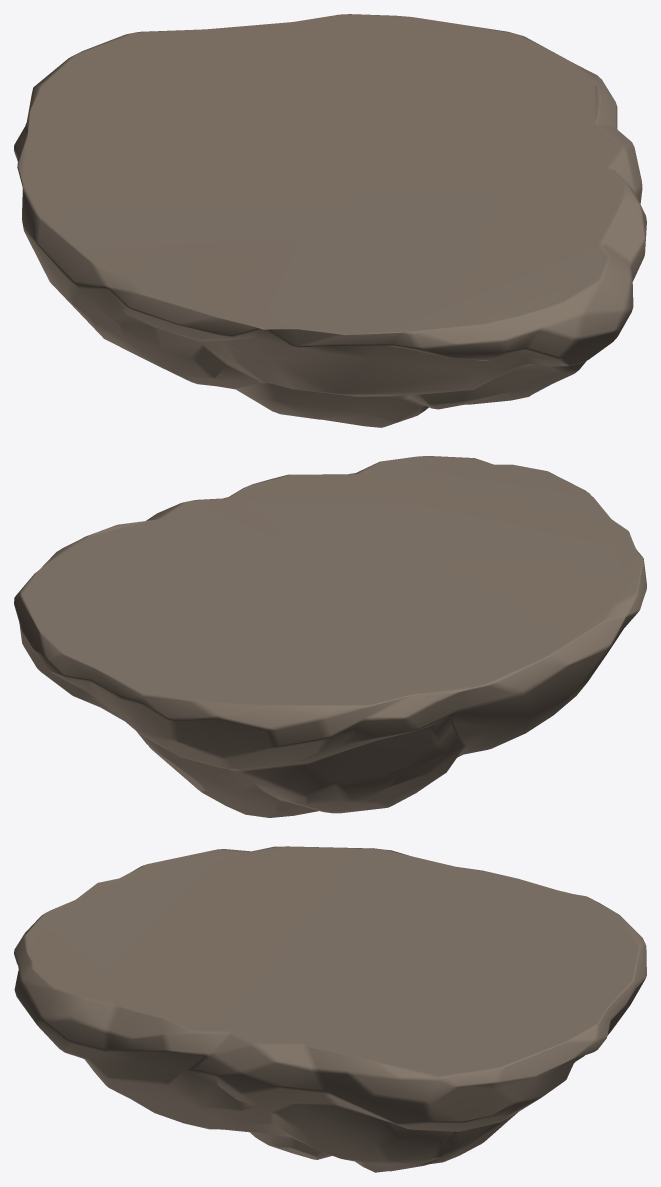
File: IlhaP1.fbx
3 views of the same model, one above another, from view 1: azimuth 30°, elevation 25°; view 2: azimuth 150°, elevation 25°; view 3: azimuth 270°, elevation 25° (orthographic). The views are drawn at different scales.
Parts seen in each view (by area): view 1: IlhaP1; view 2: IlhaP1; view 3: IlhaP1.
Boxes of the visible parts, x1,y1,x2,y2 form: IlhaP1: [14, 14, 646, 427]; IlhaP1: [14, 456, 646, 817]; IlhaP1: [14, 846, 646, 1172].
Size of the model in its own units: 1232 by 504 by 1429.
